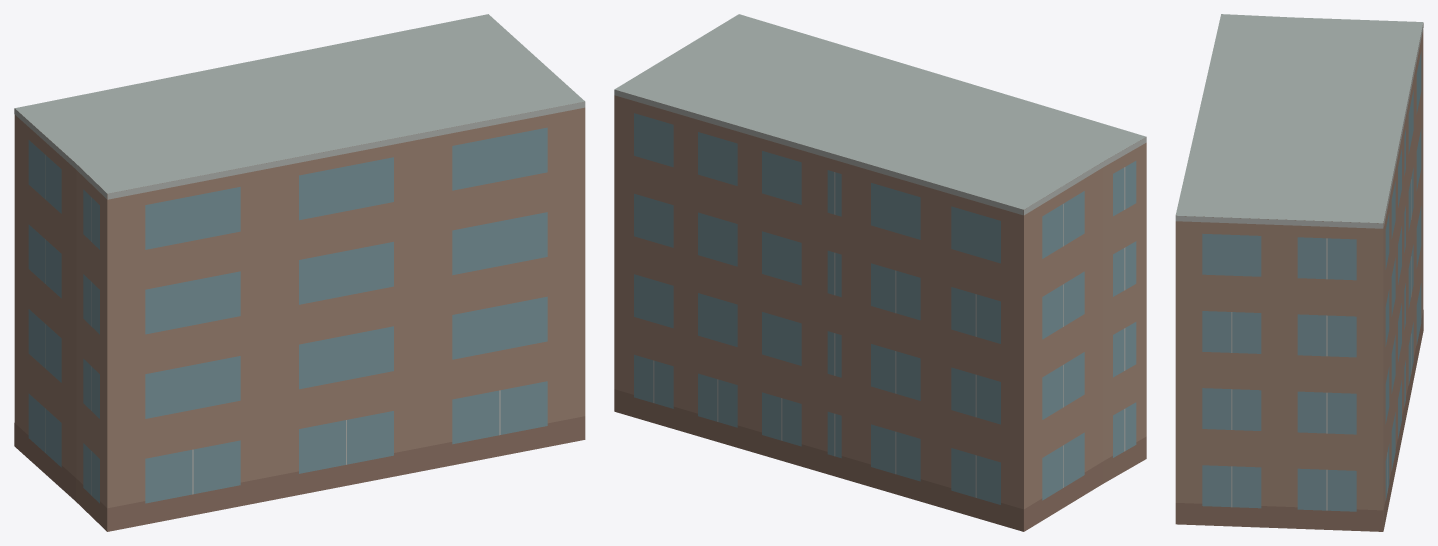
The model's file is survey-upis-32714037.glb.
3 views of the same model, side by side, from view 1: azimuth 30°, elevation 25°; view 2: azimuth 150°, elevation 25°; view 3: azimuth 270°, elevation 25° (orthographic). The views are drawn at different scales.
Visible parts, largest first — view 1: survey-upis-32714037.tmp; view 2: survey-upis-32714037.tmp; view 3: survey-upis-32714037.tmp.
Boxes of the visible parts, left/top/right/bottom form: survey-upis-32714037.tmp: left=14, top=14, right=585, bottom=531; survey-upis-32714037.tmp: left=614, top=14, right=1146, bottom=531; survey-upis-32714037.tmp: left=1175, top=14, right=1423, bottom=531.
Size of the model in its own units: 19.94 by 13.7 by 9.99.
